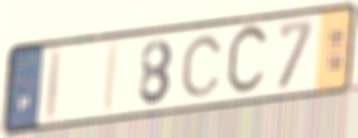7: (276, 16, 316, 93)
8: (138, 37, 174, 106)
C: (224, 20, 272, 102), (179, 34, 225, 100)
I: (41, 45, 65, 126), (101, 40, 122, 116)
